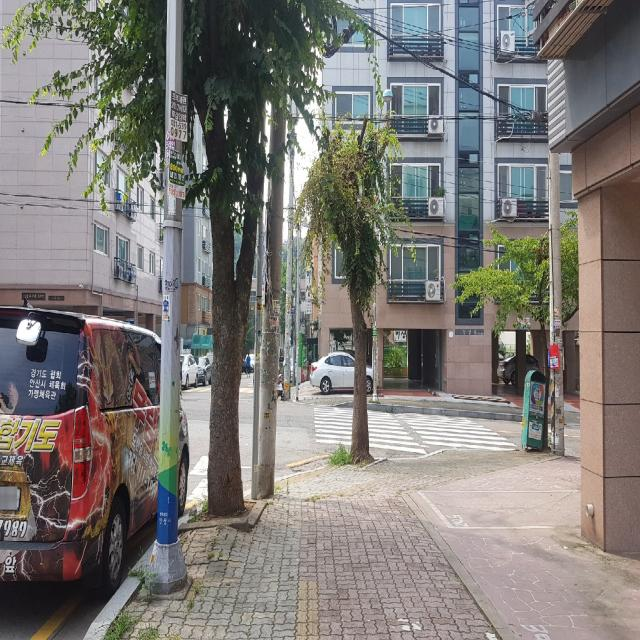횡단보도: (313, 406, 522, 456)
